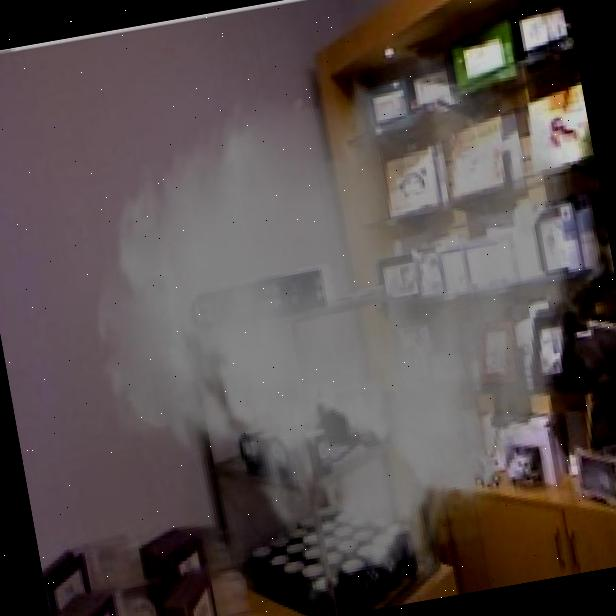smoke: (52, 14, 616, 616)
